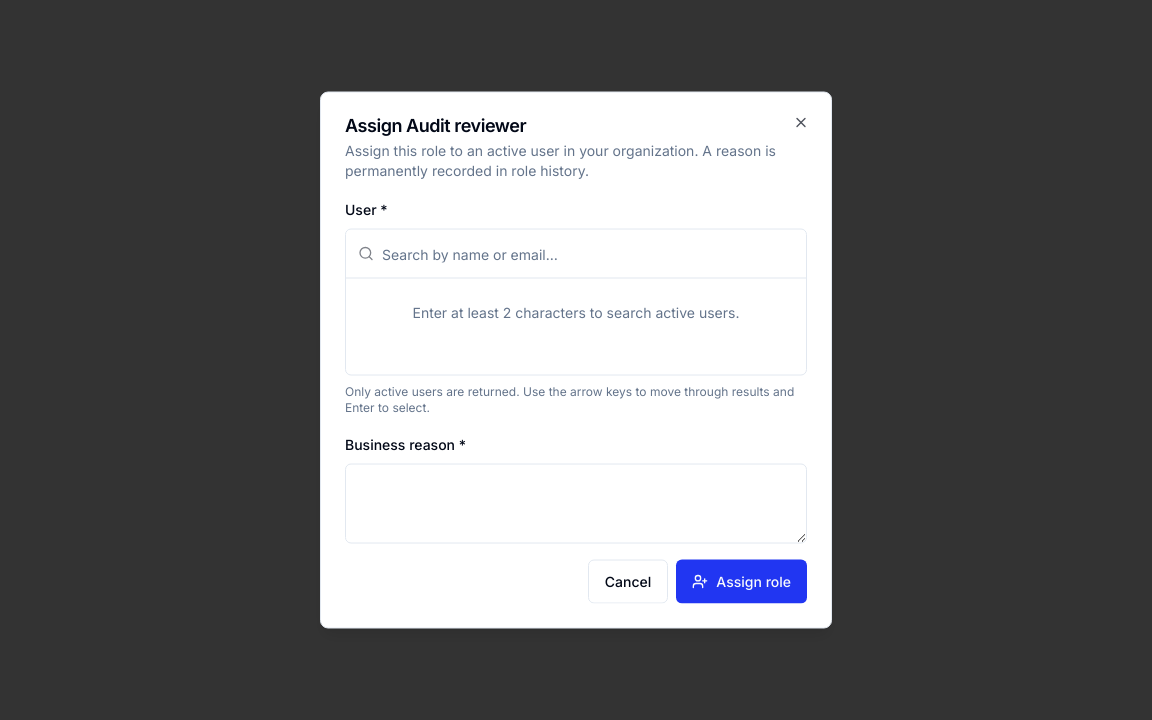
Test: directory-backed role assignment picker › requires a directory selection before assigning the role
Step 1. Type "New audit duties" into the text box labelled "Business reason *" → [576, 504], box 345,464 -> 807,544
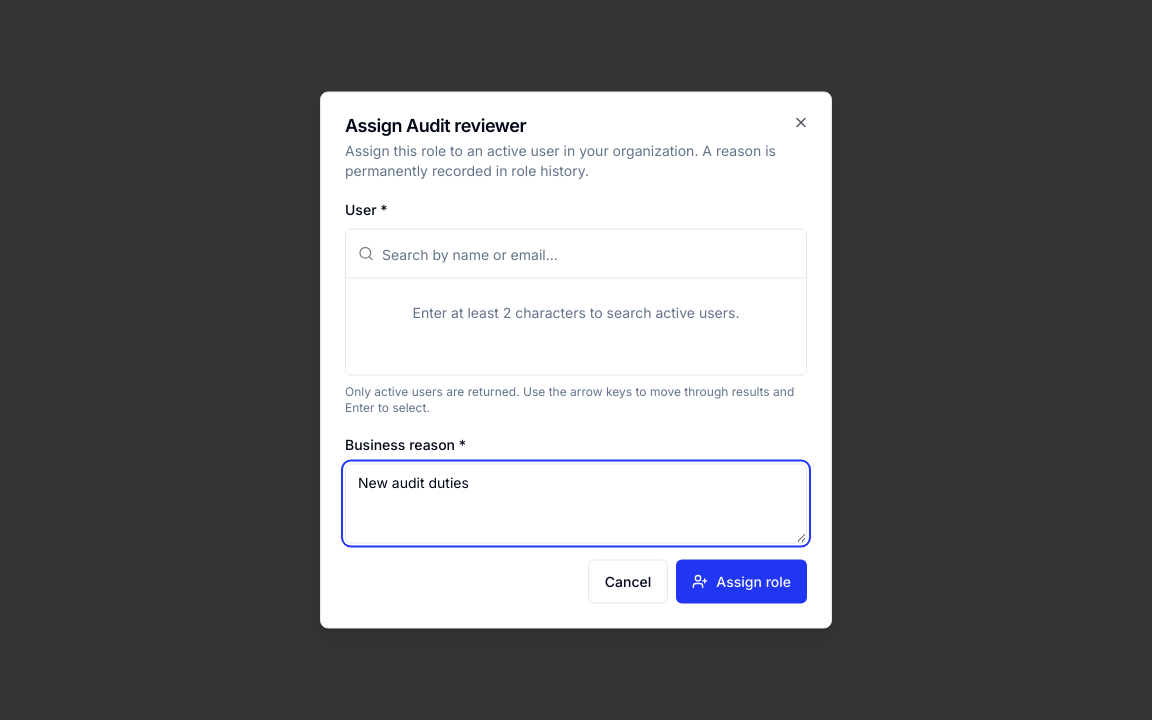
Step 2. Click the button "Assign role" → [742, 582], box 676,560 -> 807,604
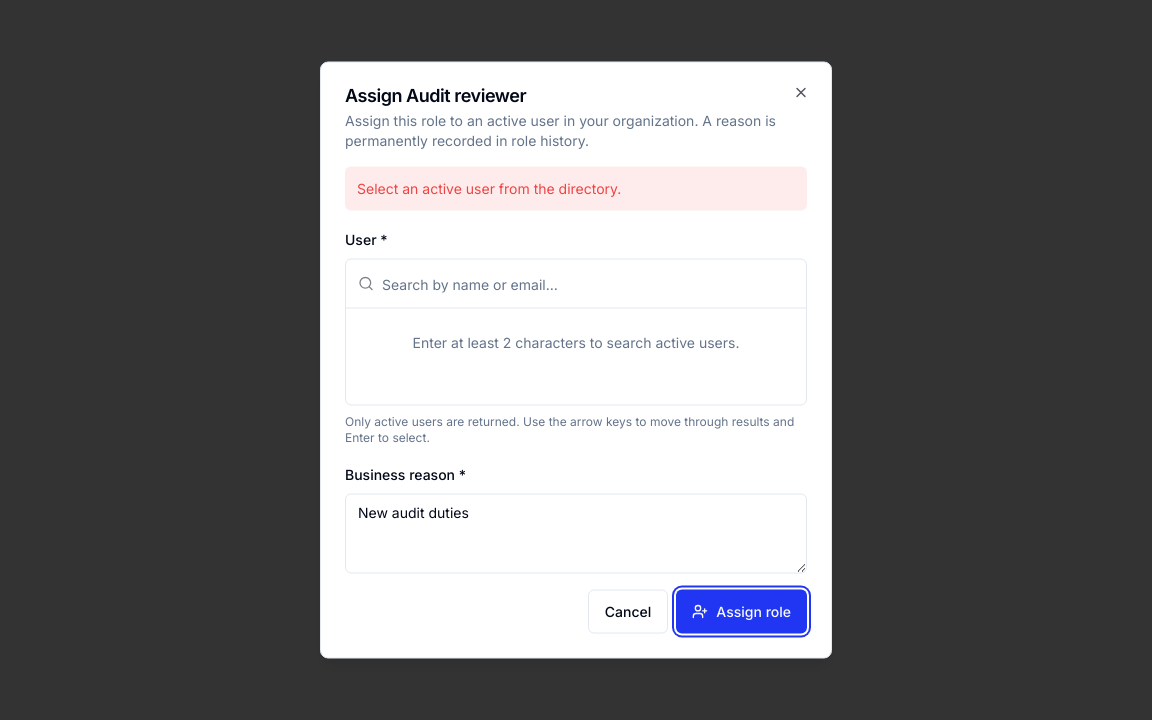
Check: the message "Select an active user from the directory." is shown, box 345,166 -> 807,210
